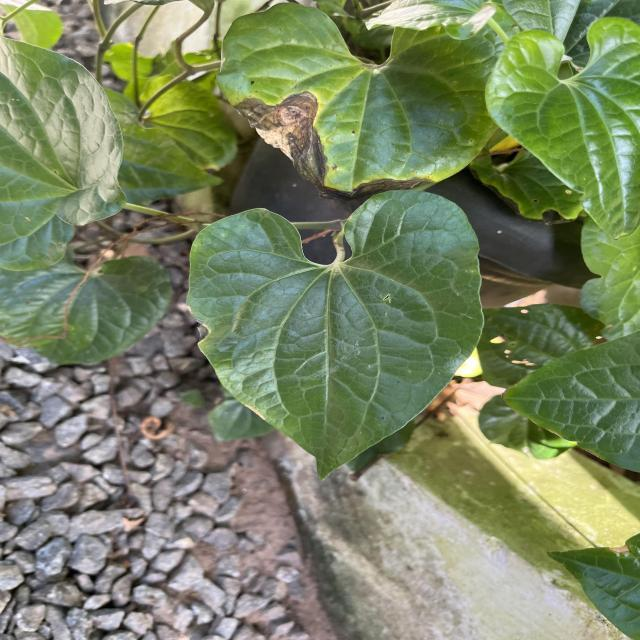Piper longum: (184, 186, 488, 484)
